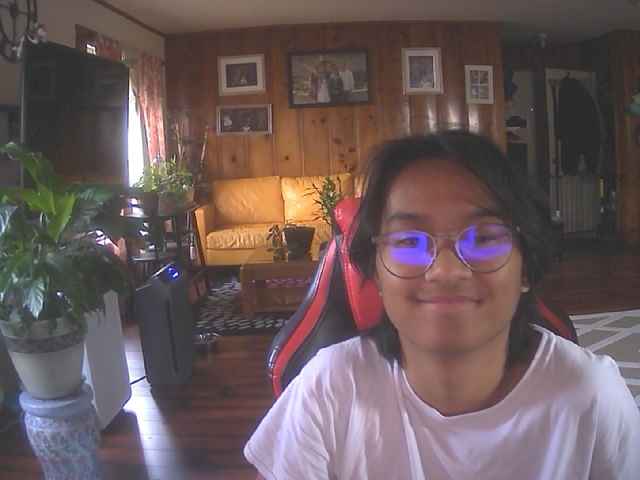happy: (365, 136, 541, 355)
